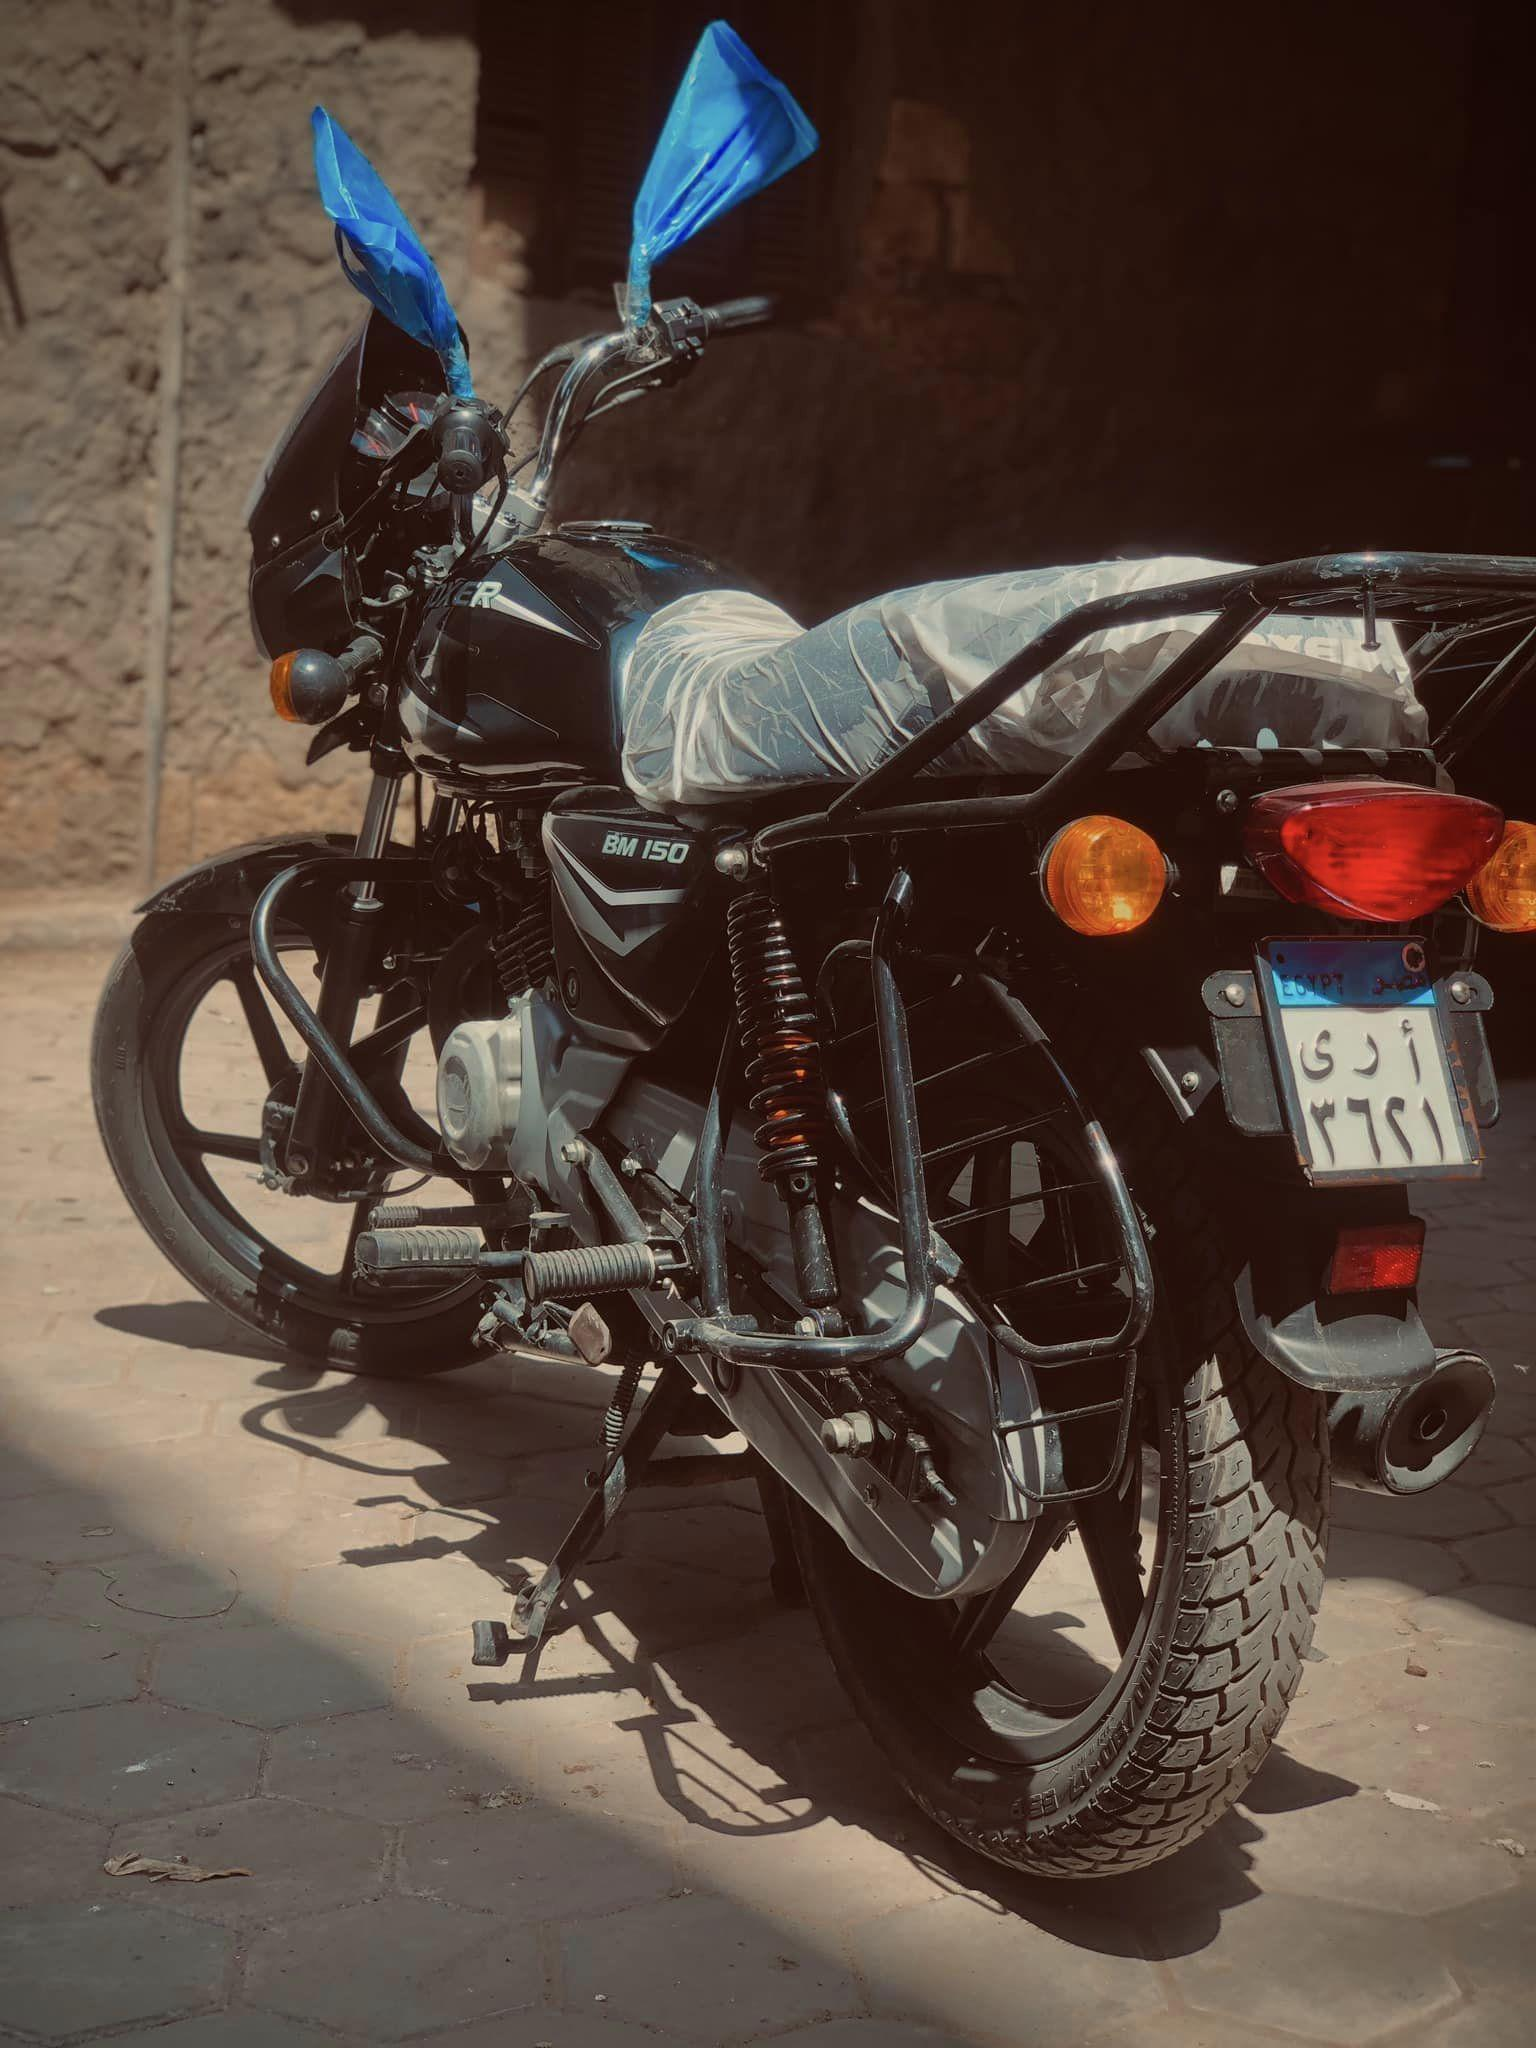License Plate: (1257, 936, 1490, 1181)
